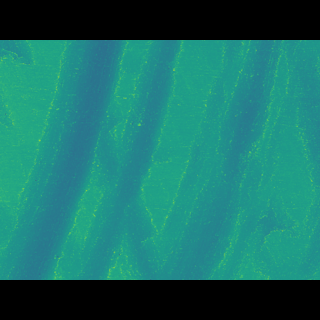Loch: (140, 69, 299, 251), (0, 69, 129, 250), (71, 70, 184, 250)
